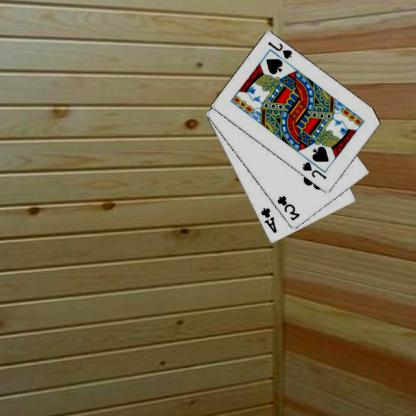3C: (276, 193, 303, 222)
AC: (260, 206, 280, 235)
JS: (301, 159, 330, 181), (267, 39, 295, 61)
